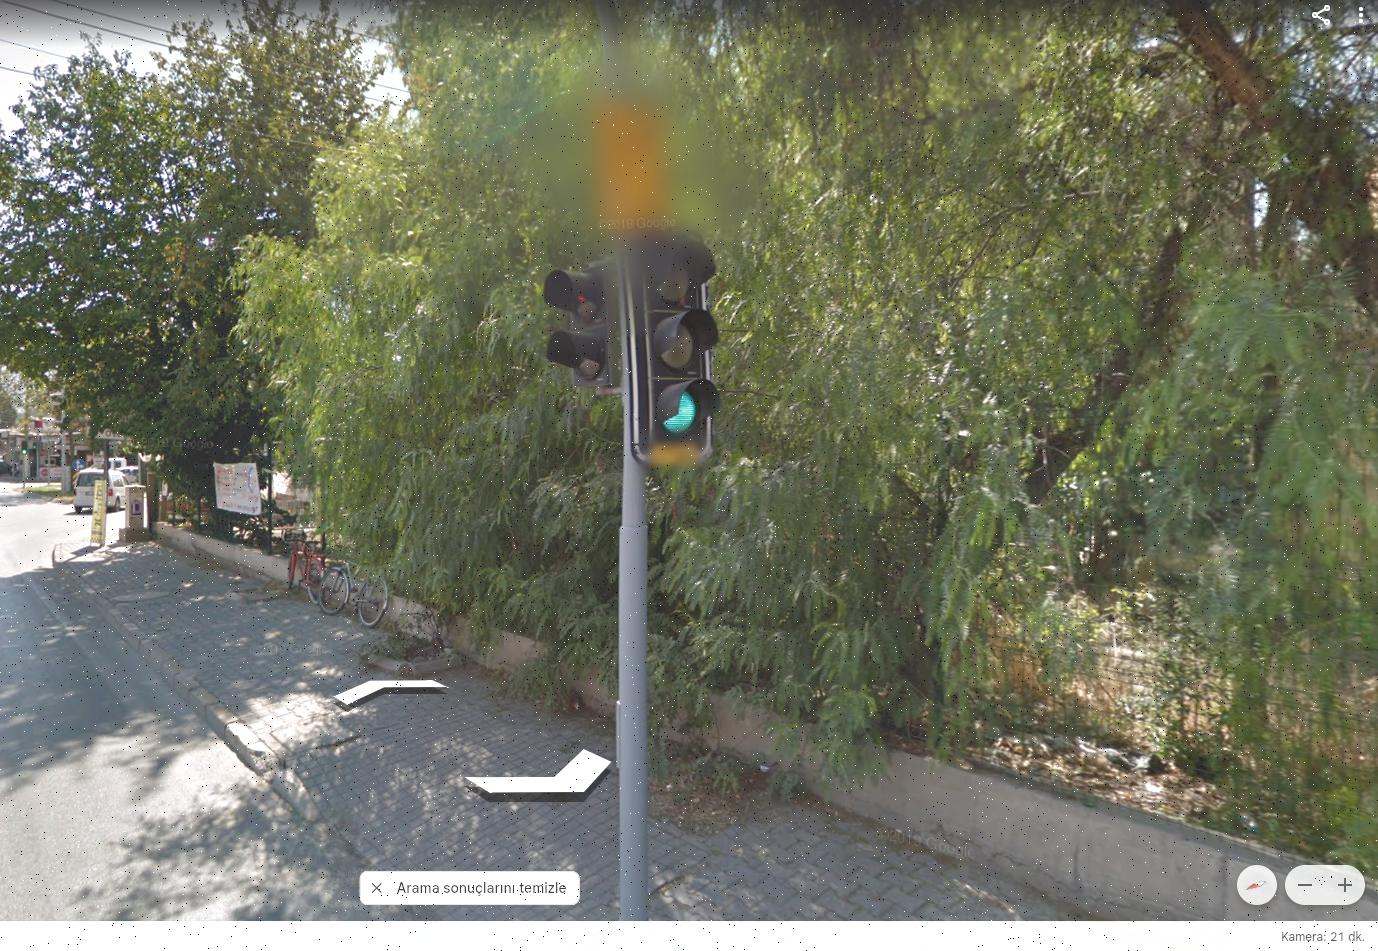greenlight: (630, 241, 711, 454)
